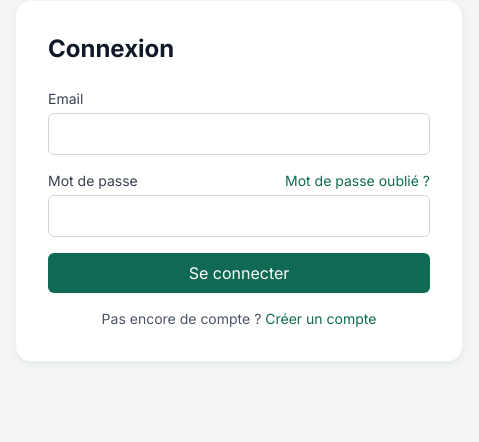
Scenario: LoginForm › affiche l'erreur de connexion en français
This screenshot has width=479, height=442.
Step 1. Type "eva@example.com" into the field labelled "Email" → (239, 134), box [48,113,430,155]
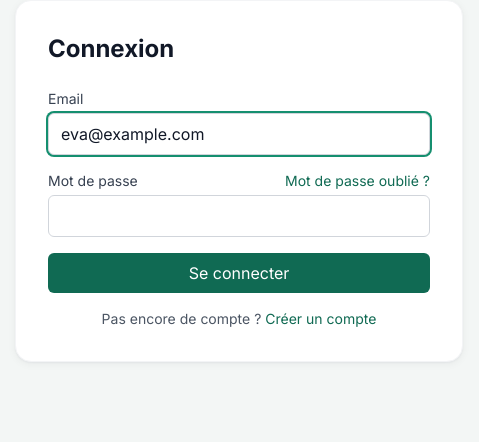
Step 2. Type "secret123" into the password field labelled "Mot de passe" → (239, 216), box [48,195,430,237]
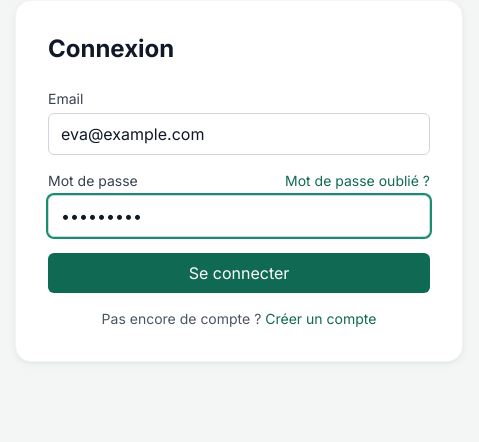
Step 3. Click the button "Se connecter" → click(239, 273), box [48,253,430,293]
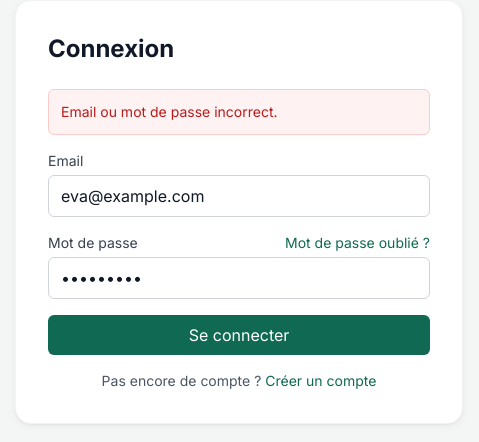
Expected: the button "Se connecter" is enabled, [48,315,430,355]
Now the text "Email ou mot de passe incorrect." is shown, box [48,89,430,135]
